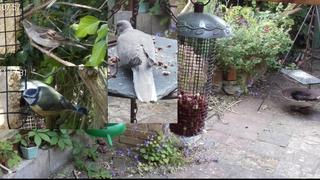blue tit: (20, 86, 87, 116)
collared dove: (115, 20, 158, 103)
sparrow: (20, 18, 88, 57)
